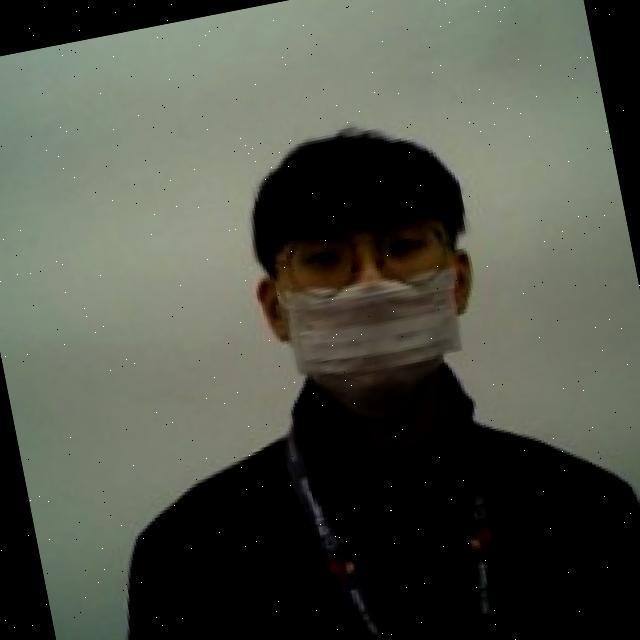mask: (256, 246, 494, 453)
no_gloves: (226, 102, 480, 283)
